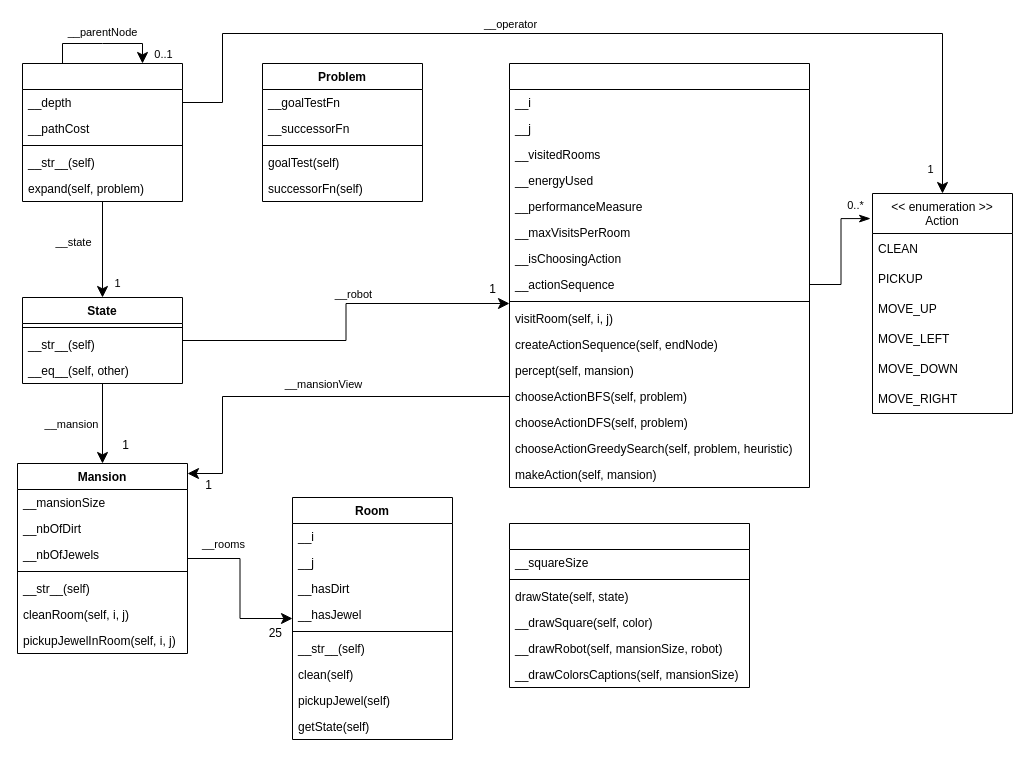
This 1030x759 diagram has some shape labels left out. The shapes that lost their labels are listed below. From the top down, each one's box as (x1, y1, x2, y2) in pixels, then its label:
(22, 62, 182, 202): Node
(508, 62, 810, 488): Robot
(508, 522, 750, 688): Renderer
